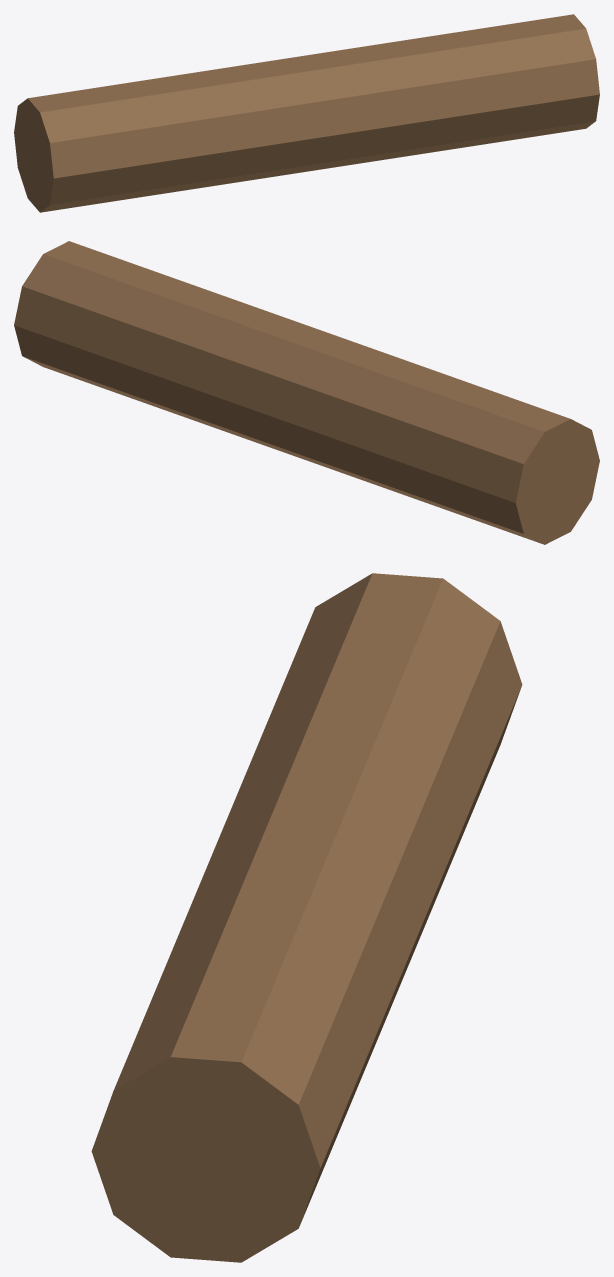
Rendered from z1_tronco_2_lev1.glb.
3 renders of one model, top to bottom at view 1: azimuth 30°, elevation 25°; view 2: azimuth 150°, elevation 25°; view 3: azimuth 270°, elevation 25°, orthographic. The views are drawn at different scales.
Visible parts, largest first — view 1: z1_tronco_2_lev1; view 2: z1_tronco_2_lev1; view 3: z1_tronco_2_lev1.
Boxes of the visible parts, bbox=[...] form: z1_tronco_2_lev1: bbox=[14, 14, 599, 212]; z1_tronco_2_lev1: bbox=[14, 241, 599, 544]; z1_tronco_2_lev1: bbox=[91, 573, 522, 1262].
Size of the model in its own units: 2.45 by 0.4565 by 0.8895.
